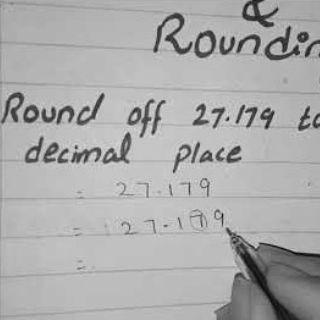.: (224, 114, 231, 123), (161, 221, 168, 228)
1: (234, 102, 245, 126), (165, 180, 176, 197)
2: (191, 102, 210, 126), (115, 179, 134, 198)
7: (243, 105, 259, 130), (210, 103, 225, 129), (136, 178, 152, 199), (178, 179, 193, 195)
9: (259, 106, 276, 132), (199, 177, 211, 198)
